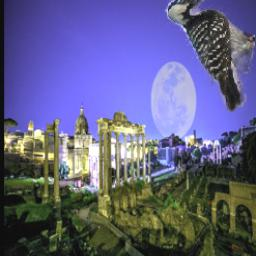Woodpecker: (166, 0, 256, 111)
